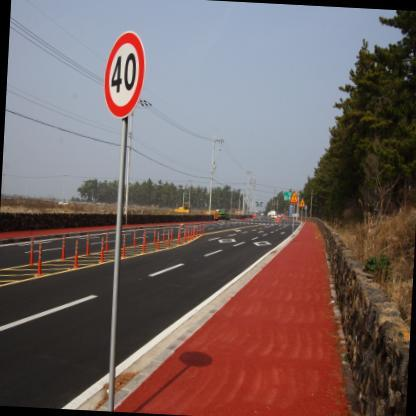road_sign: (105, 31, 144, 118)
